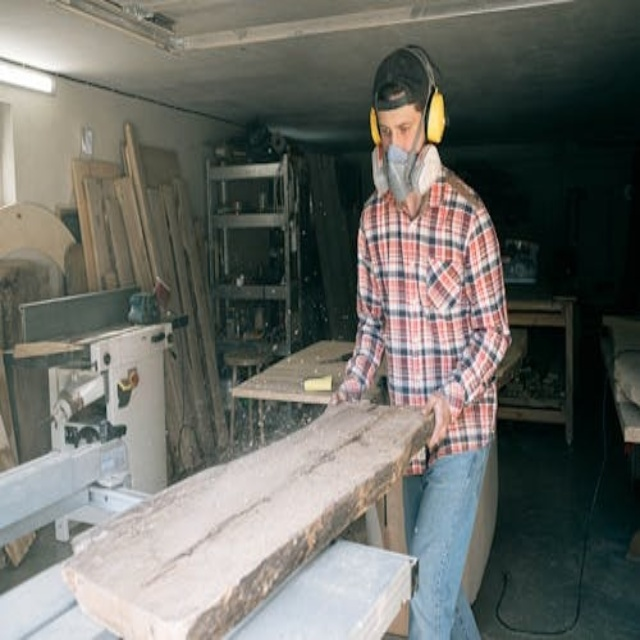Mascara: (367, 140, 445, 202)
Sin_gafas: (378, 111, 416, 140)
Sin_guantes: (421, 391, 454, 453)
